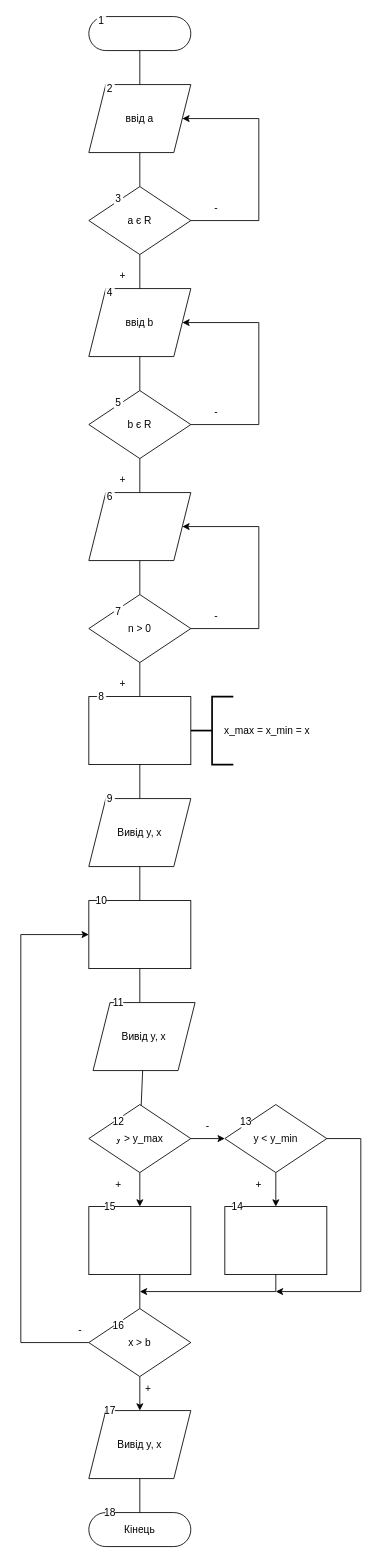
The diagram is 383 pixels wide and 1561 high, and some of its shapes have lost their labels. The box of each missing label's shape, as (x1, y1, x2, y2) in pixels:
h = (b - a) / n i = 0 x = a y = tgx + ctg(1-x^2) y_max = y_min = y: (88, 696, 191, 765)
x = x + h y = tgx + ctg(1-x^2): (88, 900, 191, 969)
y_max = y x_max = x: (88, 1206, 191, 1275)
y_min = y x_min = x: (224, 1206, 327, 1275)
ввід n: (88, 492, 191, 561)
Початок: (88, 16, 191, 51)
